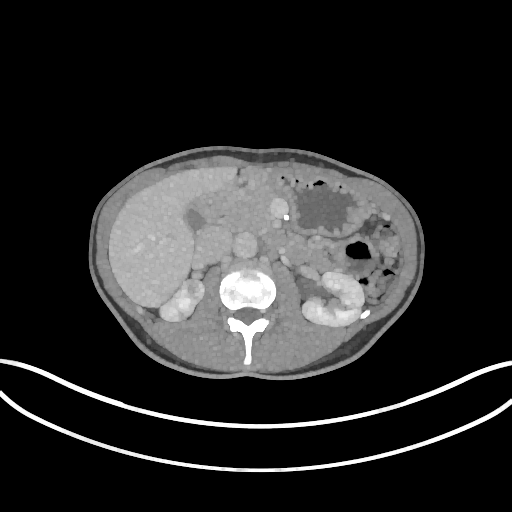Lesion: (184, 280, 203, 299)
